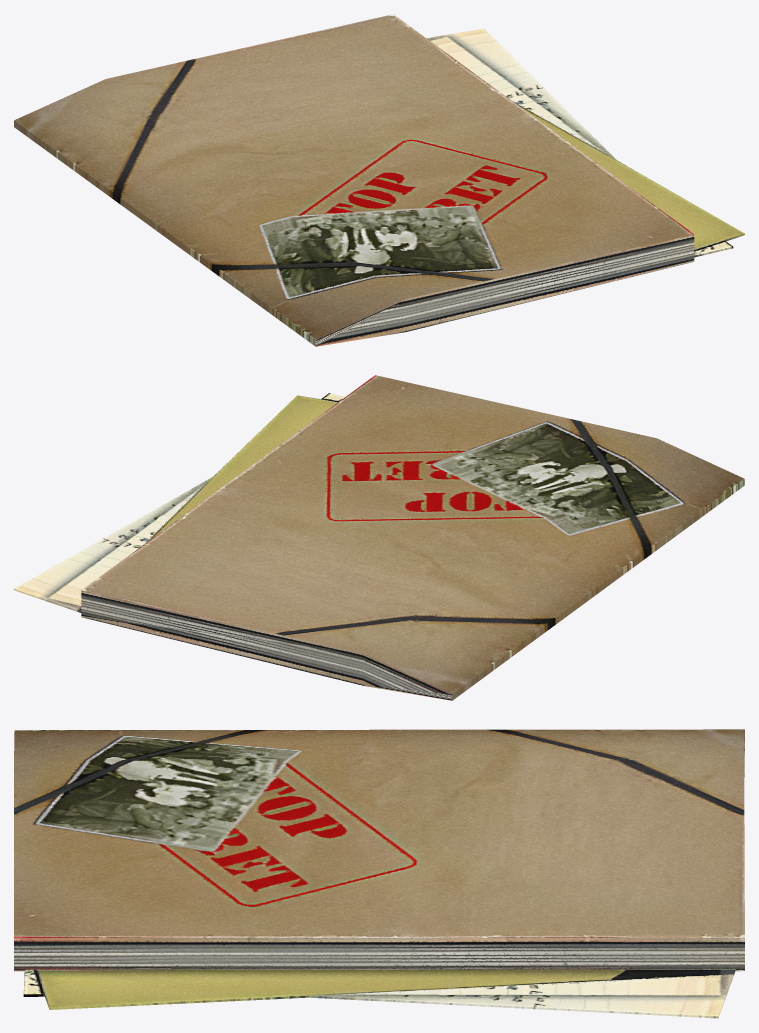
File: dossier-primary.glb
3 renders of one model, top to bottom at view 1: azimuth 30°, elevation 25°; view 2: azimuth 150°, elevation 25°; view 3: azimuth 270°, elevation 25°, orthographic. The views are drawn at different scales.
Parts seen in each view (by area): view 1: dossier; view 2: dossier; view 3: dossier.
Boxes of the visible parts, x1,y1,x2,y2 form: dossier: (14, 14, 744, 346); dossier: (14, 375, 744, 700); dossier: (14, 729, 744, 1018).
Size of the model in its own units: 0.4421 by 0.0305 by 0.5015.
1 material, 1 textured.
